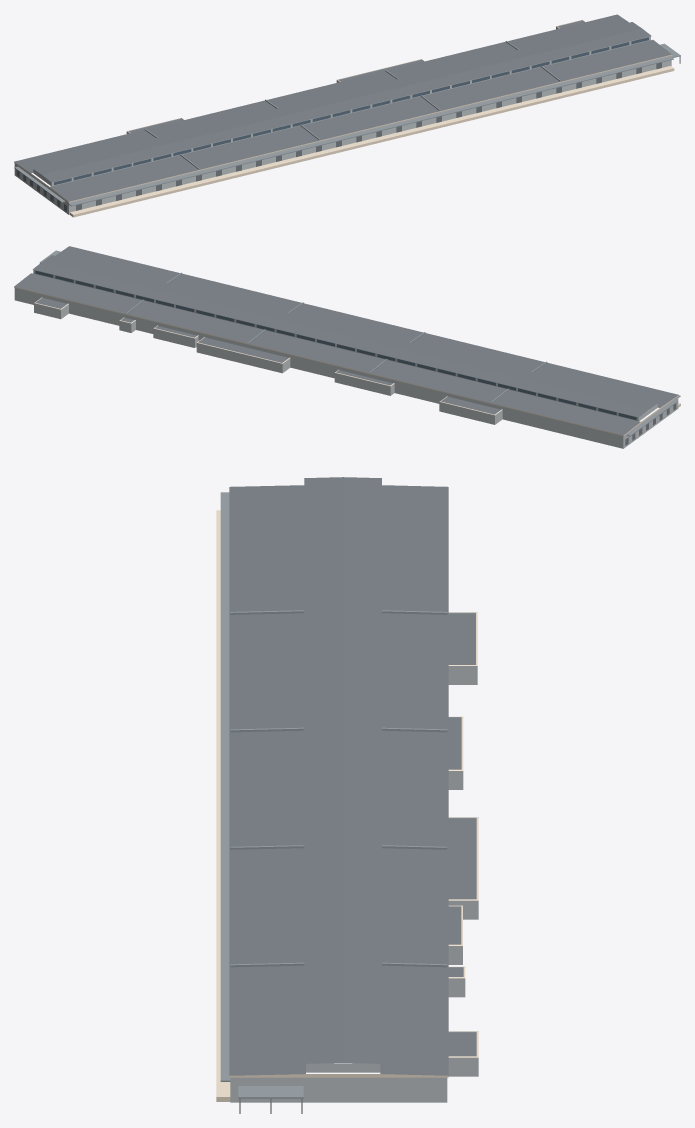
Rendered from clt-cne-building-3.glb.
3 views of the same model, one above another, from view 1: azimuth 30°, elevation 25°; view 2: azimuth 150°, elevation 25°; view 3: azimuth 270°, elevation 25° (orthographic). The views are drawn at different scales.
Visible parts, largest first — view 1: Building 3, Camp North End; view 2: Building 3, Camp North End; view 3: Building 3, Camp North End.
Part boxes in pixels (x1=…): Building 3, Camp North End: x1=14, y1=14, x2=680, y2=217; Building 3, Camp North End: x1=14, y1=246, x2=680, y2=448; Building 3, Camp North End: x1=216, y1=477, x2=478, y2=1113.
Size of the model in its own units: 377 by 11.3 by 69.2.
